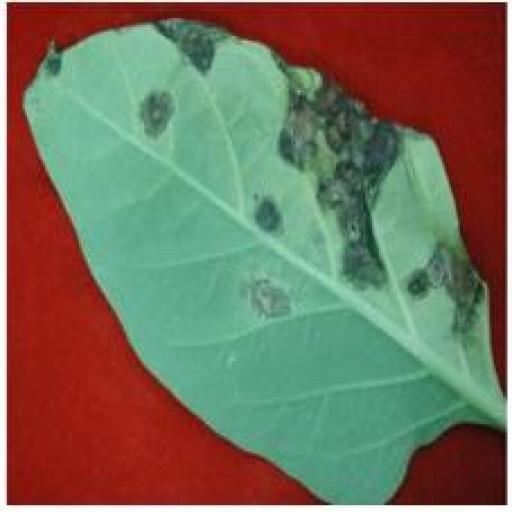Bacterial Spot: (22, 13, 495, 499)
